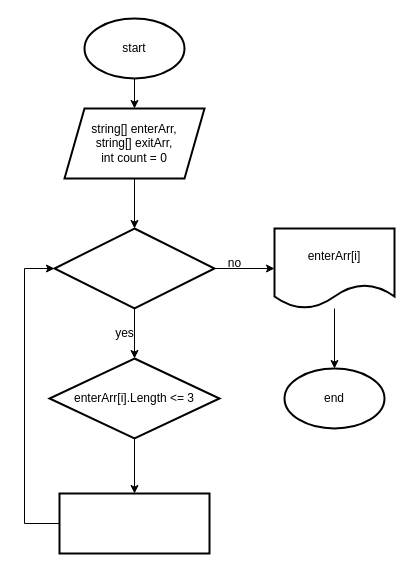
Image size: 413x571. Some labels were removed from this diagram. The shapes that lost their labels are listed below. From the top down, each one's box as (x1, y1, x2, y2) in pixels, then its label:
(53, 227, 215, 309): i < enterArr.Length
(58, 492, 210, 554): exitArr[count] = enterArr[i] count++
